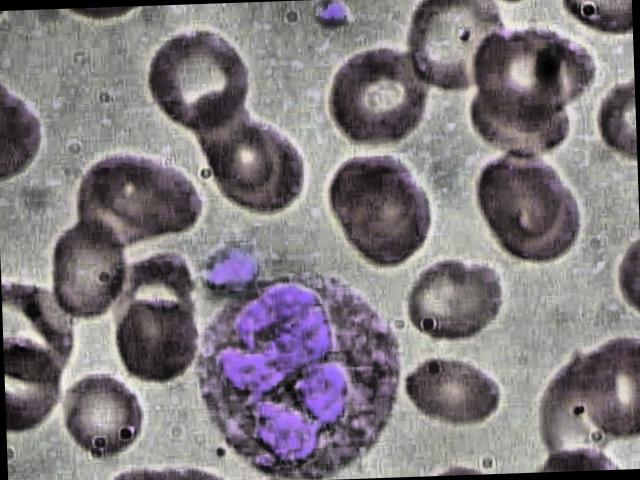Platelets: (198, 237, 269, 297), (307, 0, 350, 36)
RBC: (322, 149, 439, 266), (465, 147, 582, 264), (325, 41, 437, 153), (140, 19, 252, 131), (396, 340, 511, 431), (400, 256, 514, 347), (42, 212, 130, 320), (58, 367, 154, 459), (106, 294, 201, 386)
WBC: (173, 272, 415, 480)
